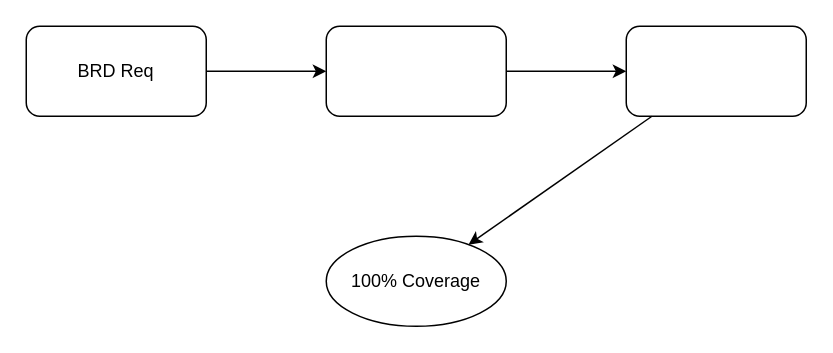
Image size: 833x353. Some labels were removed from this diagram. Here are the shapes that lost their labels. From the top down, the centre of each, then its label:
At point (415, 70): "FSD UC".
At point (715, 70): "Test Cases".
